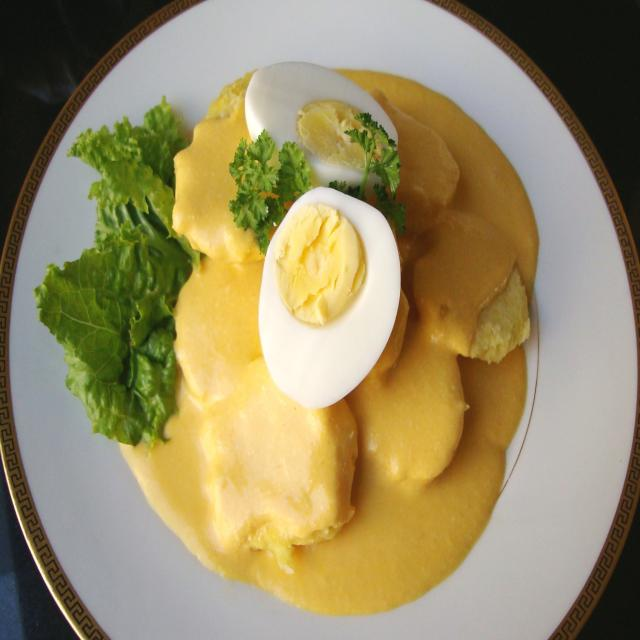huevos: (258, 184, 402, 420), (235, 50, 421, 211)
